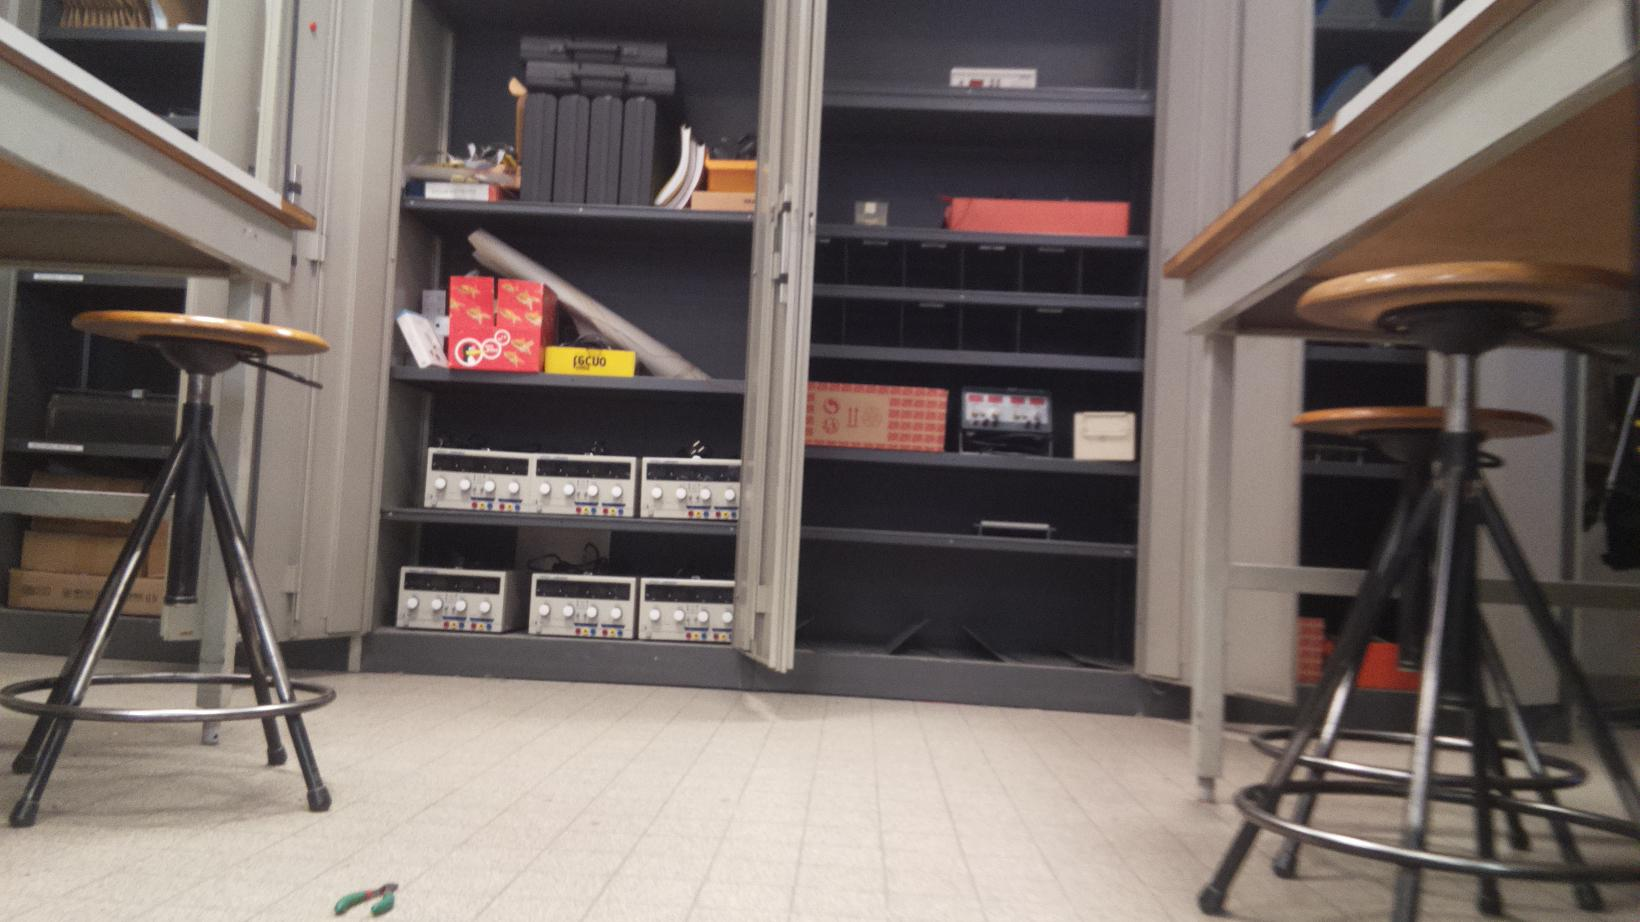small: (331, 875, 405, 920)
